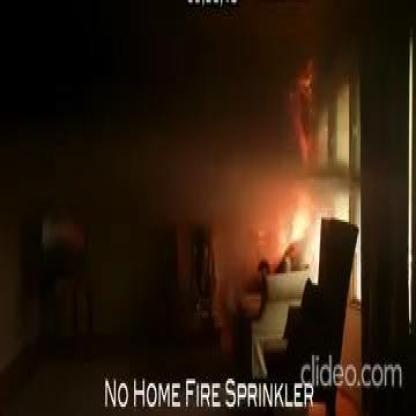fire: (276, 196, 312, 266), (291, 63, 316, 115), (294, 122, 312, 176)
